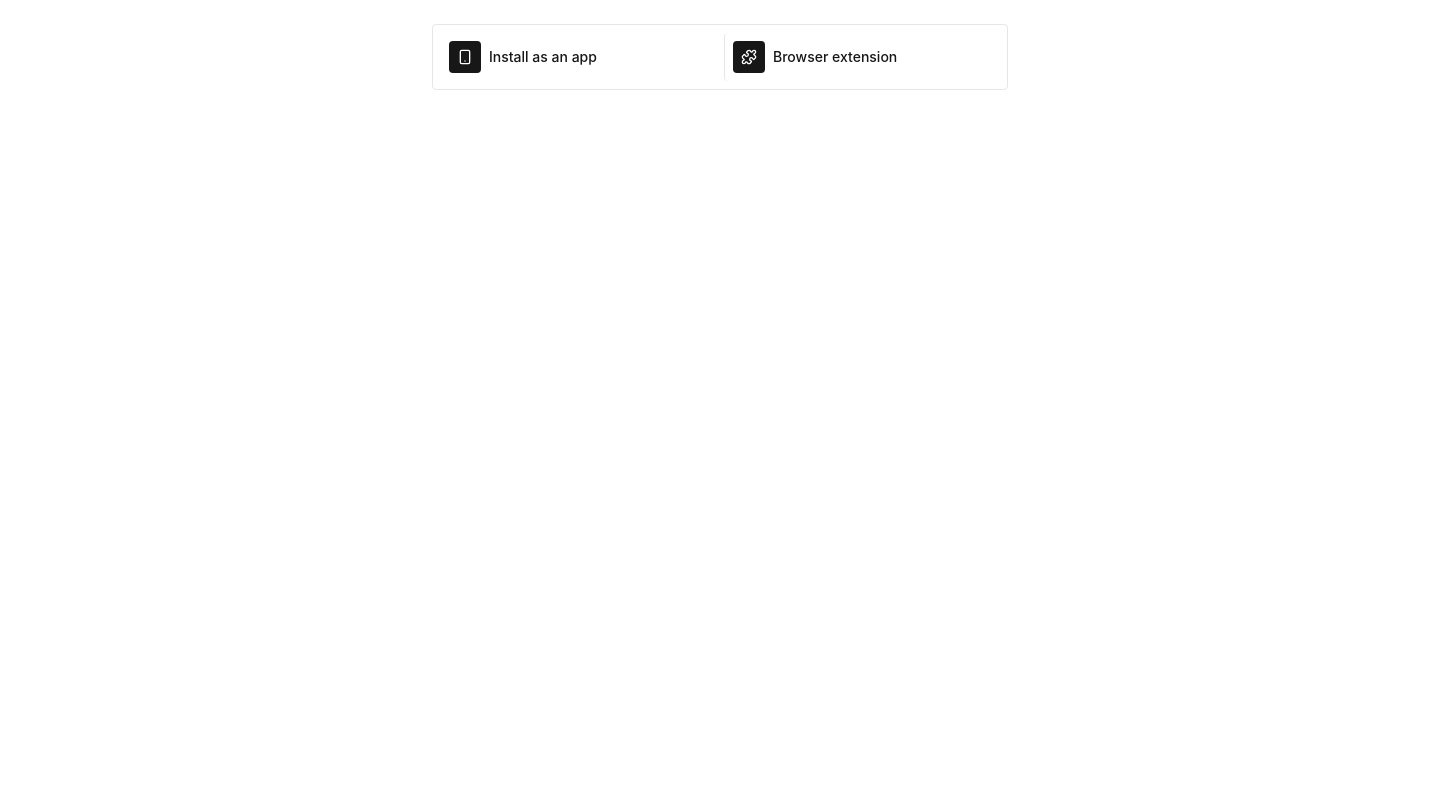
Test: InstallPrompt BIP dialog › opens the install-as-app dialog on mouse down so a sibling hydrate cannot swallow the click
The image size is (1440, 810).
Press the mouse on the button "Install as an app" at (578, 57), box [441, 33, 716, 81]
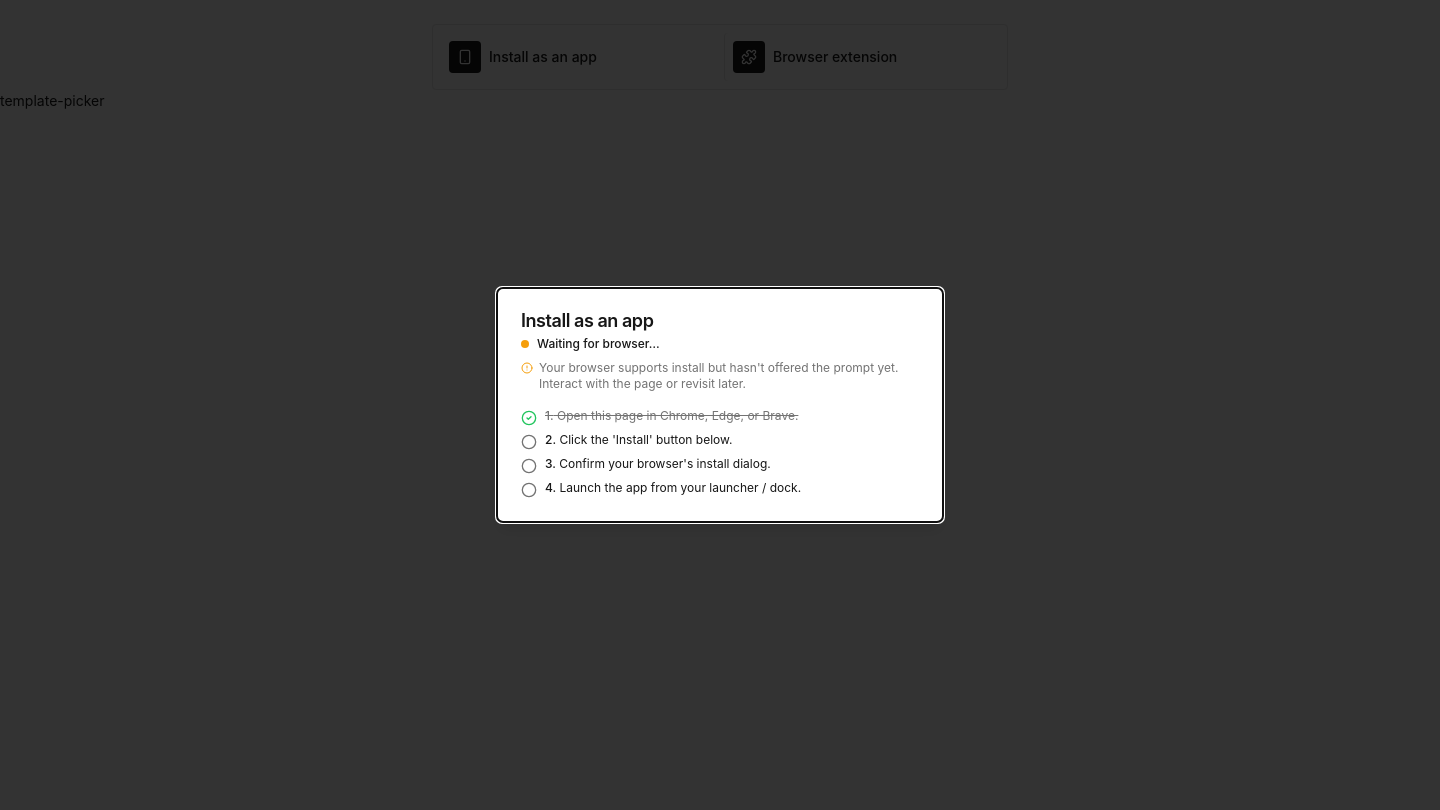
Expected: the text "template-picker" is shown, [0, 92, 104, 109]
Expected: the dialog is shown, [496, 287, 944, 523]
